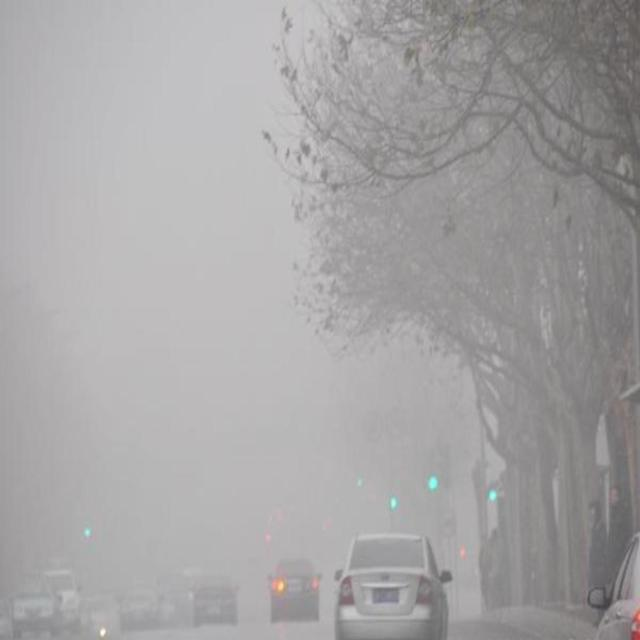car: (334, 535, 452, 639), (590, 526, 638, 638), (266, 555, 320, 624), (9, 570, 61, 632), (191, 566, 239, 627), (113, 588, 165, 627), (48, 567, 79, 628)
